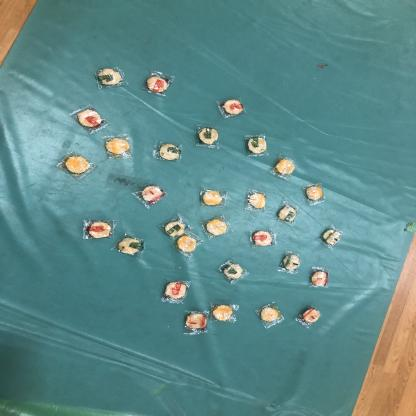green_setoshio: (92, 63, 129, 89), (116, 233, 147, 260), (150, 139, 184, 163), (193, 125, 224, 151), (242, 133, 270, 159), (314, 224, 346, 246), (275, 250, 306, 272), (221, 260, 250, 282), (163, 219, 193, 238), (278, 203, 302, 226)
red_setoshio: (69, 104, 108, 135), (136, 179, 167, 208), (244, 226, 282, 249), (144, 70, 175, 98), (215, 94, 247, 120), (160, 278, 190, 304), (295, 303, 324, 329), (81, 219, 114, 240), (182, 310, 210, 334), (307, 266, 335, 288)
yellow_setoshio: (54, 150, 94, 180), (100, 132, 133, 161), (201, 216, 234, 240), (254, 304, 287, 328), (270, 153, 298, 181), (241, 188, 272, 213), (209, 300, 241, 324), (300, 182, 330, 205), (174, 234, 203, 256), (198, 187, 228, 208)
